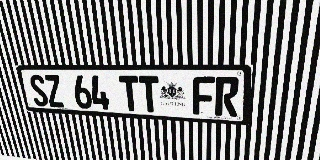4: (88, 75, 110, 110)
6: (71, 75, 93, 109)
F: (193, 76, 215, 115)
R: (215, 76, 239, 117)
S: (28, 75, 50, 107)
T: (138, 76, 160, 113), (119, 76, 141, 112)
Z: (43, 75, 65, 107)
